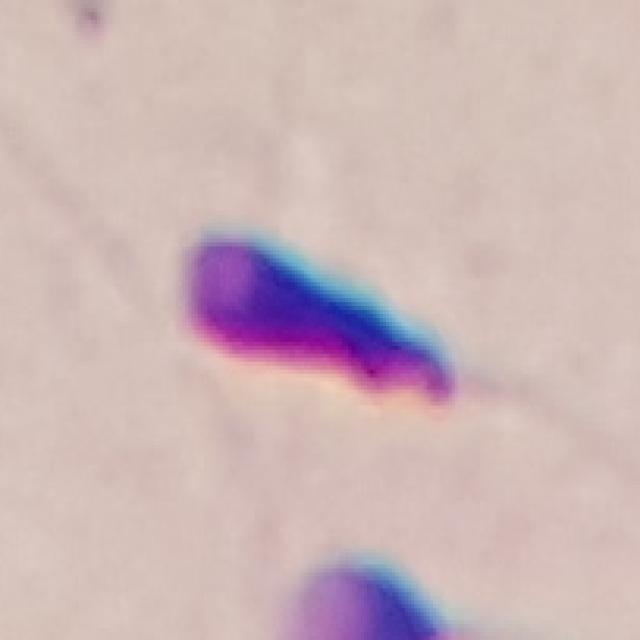abnormal sperm: (180, 229, 535, 413)
